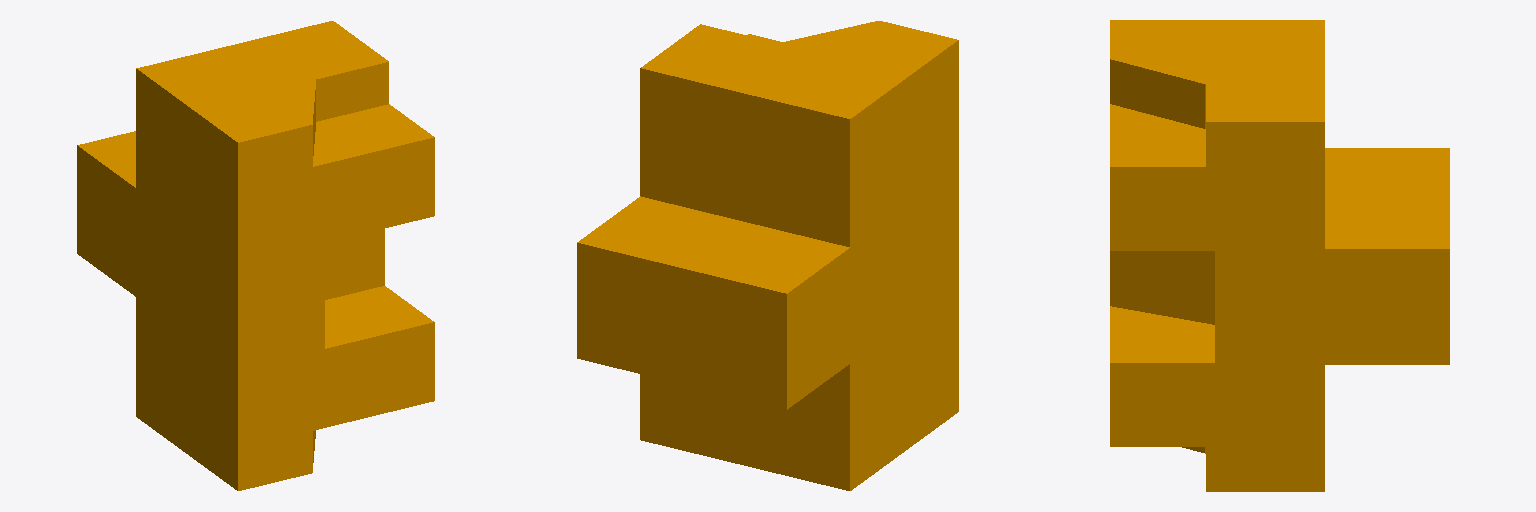
The robot description file, URDF, robot "four_dof":
<robot name="four_dof">

    <!--base link-->
    <link name="base_link">
        <visual>

            <geometry>
                <mesh filename="package://four_dof/meshes/body_for_Sym.stl" scale="1.0"/>
            </geometry>

        </visual>

        <collision>
            <mesh filename="package://four_dof/meshes/body_for_Sym.stl" scale="1.0"/>
        </collision>

    </link>



</robot>

--- Facts derived from the render (not from the file) ---
3 views of the same robot in one strip: view 1: azimuth 30°, elevation 25°; view 2: azimuth 150°, elevation 25°; view 3: azimuth 270°, elevation 25° (orthographic).
Model four_dof with 1 links and 0 joints (none), rooted at base_link, posed all joints at 0.
Links seen in each view (by area): view 1: base_link; view 2: base_link; view 3: base_link.
Link boxes in pixels (<box>): base_link: <box>77,21,434,490</box>; base_link: <box>577,21,958,490</box>; base_link: <box>1110,20,1449,491</box>.
Size in the robot's own frame: 72.9 by 103 by 124 metres.
1 mesh visuals loaded from 1 distinct referenced files (1 binary STL).
